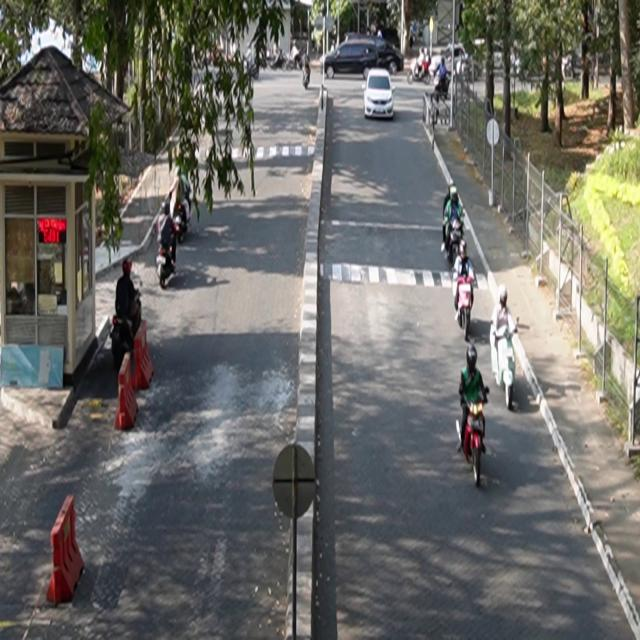car: (364, 68, 396, 121)
